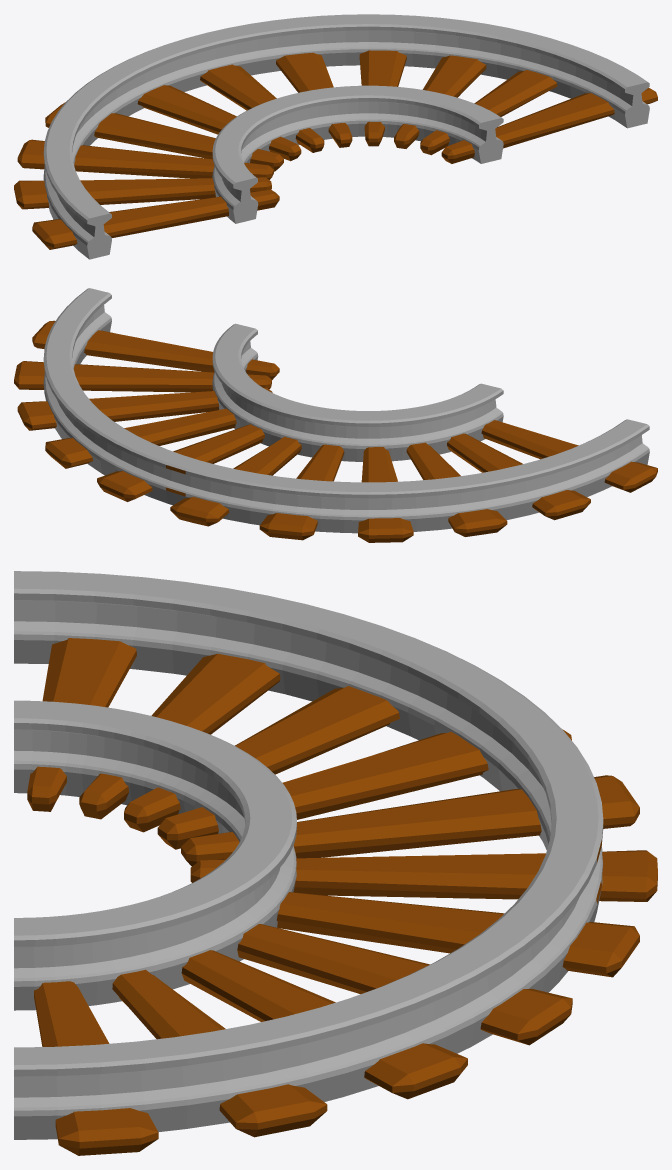
Rendered from RayKisa180lik.fbx.
The picture shows the model from 3 angles, top to bottom: view 1: azimuth 30°, elevation 25°; view 2: azimuth 150°, elevation 25°; view 3: azimuth 270°, elevation 25°; orthographic projection. The views are drawn at different scales.
Parts seen in each view (by area): view 1: Railroad14.002; view 2: Railroad14.002; view 3: Railroad14.002.
Part boxes in pixels (x1=…): Railroad14.002: x1=14, y1=14, x2=657, y2=259; Railroad14.002: x1=14, y1=288, x2=657, y2=542; Railroad14.002: x1=14, y1=571, x2=657, y2=1155.
Bounding box in the file's own units: 2.82 × 0.1816 × 1.42.
